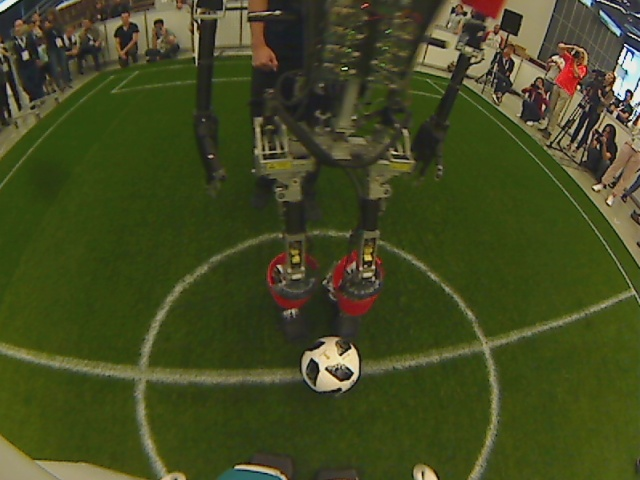ball: (299, 346, 360, 395)
goalpost: (186, 48, 204, 68)
robot: (269, 284, 376, 342)
